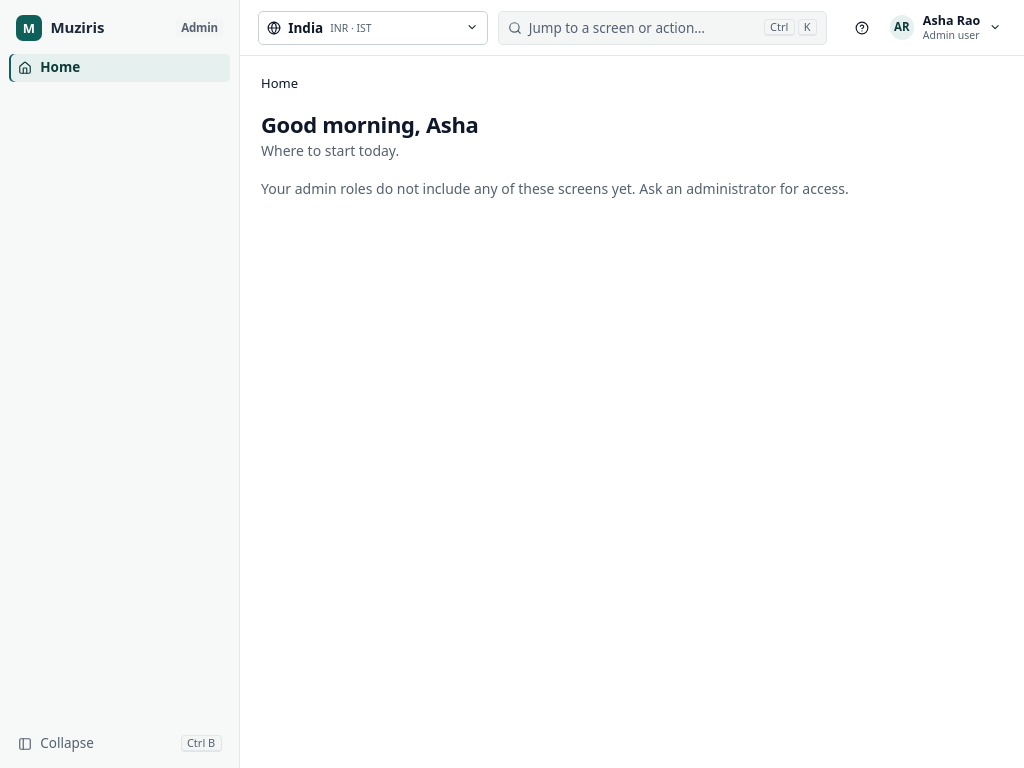
Test: app frame › offers the theme in the user menu
The image size is (1024, 768).
Step 1. Click the button "AR Asha Rao Admin user" → (946, 28), box left=886, top=10, right=1006, bottom=45
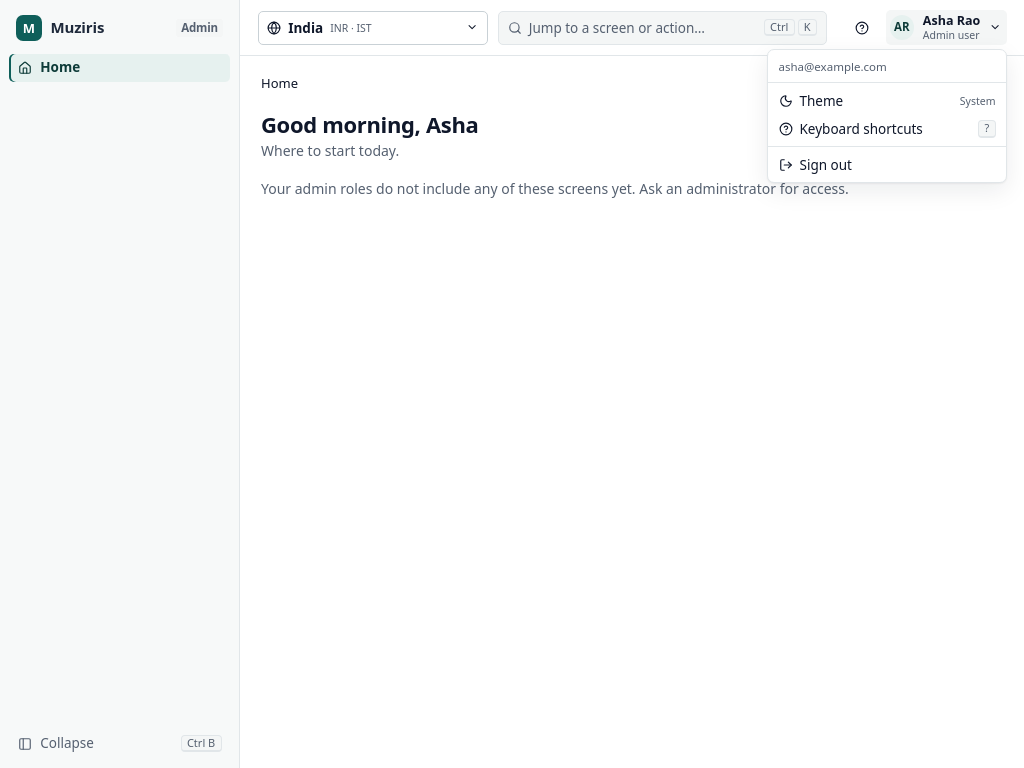
Expected: the menu item "Theme System" is shown, left=772, top=87, right=1002, bottom=115
Expected: the menu item "Sign out" is shown, left=778, top=156, right=852, bottom=174
